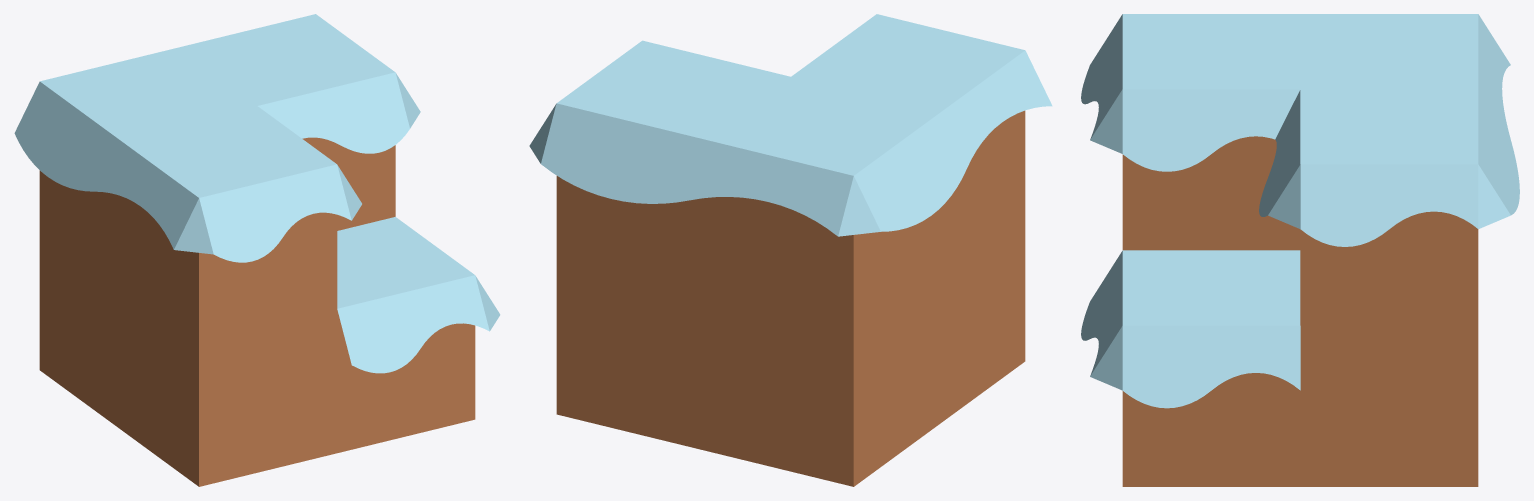
The model's file is blockSnowLevel.dae.
The picture shows the model from 3 angles, left to right: view 1: azimuth 30°, elevation 25°; view 2: azimuth 150°, elevation 25°; view 3: azimuth 270°, elevation 25°; orthographic projection. The views are drawn at different scales.
Parts seen in each view (by area): view 1: blockSnowLevel; view 2: blockSnowLevel; view 3: blockSnowLevel.
Part boxes in pixels (left/top/right/bottom): blockSnowLevel: left=14, top=14, right=500, bottom=486; blockSnowLevel: left=529, top=14, right=1052, bottom=486; blockSnowLevel: left=1081, top=14, right=1519, bottom=486.
Size of the model in its own units: 1.23 by 1 by 1.23.
